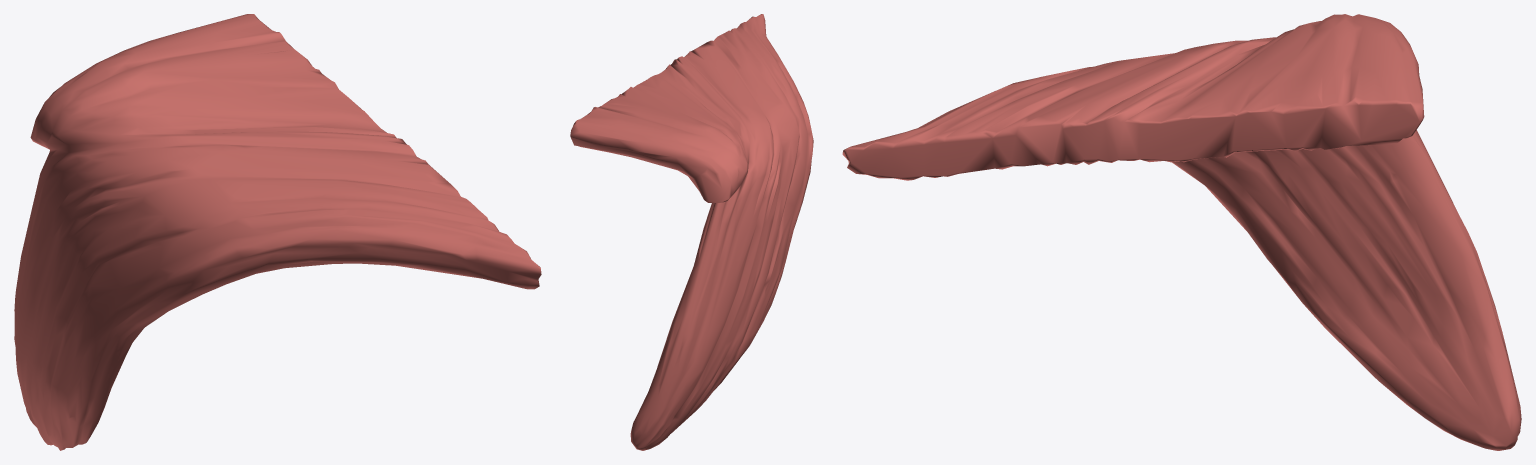
The picture shows the model from 3 angles, left to right: view 1: azimuth 30°, elevation 25°; view 2: azimuth 150°, elevation 25°; view 3: azimuth 270°, elevation 25°; orthographic projection. The views are drawn at different scales.
Visible parts, largest first — view 1: 右侧咽中缩肌; view 2: 右侧咽中缩肌; view 3: 右侧咽中缩肌.
Boxes of the visible parts, x1=… form: 右侧咽中缩肌: x1=14, y1=14, x2=541, y2=450; 右侧咽中缩肌: x1=570, y1=14, x2=813, y2=450; 右侧咽中缩肌: x1=842, y1=14, x2=1521, y2=450.
Size of the model in its own units: 0.0277 by 0.0465 by 0.0674.
